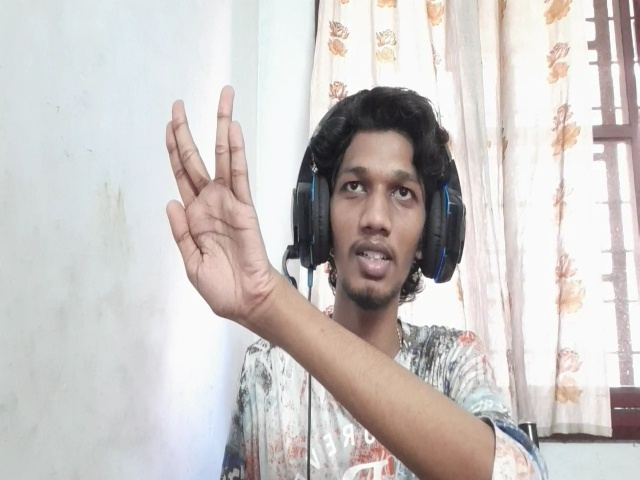LiveLong: (163, 84, 271, 324)
